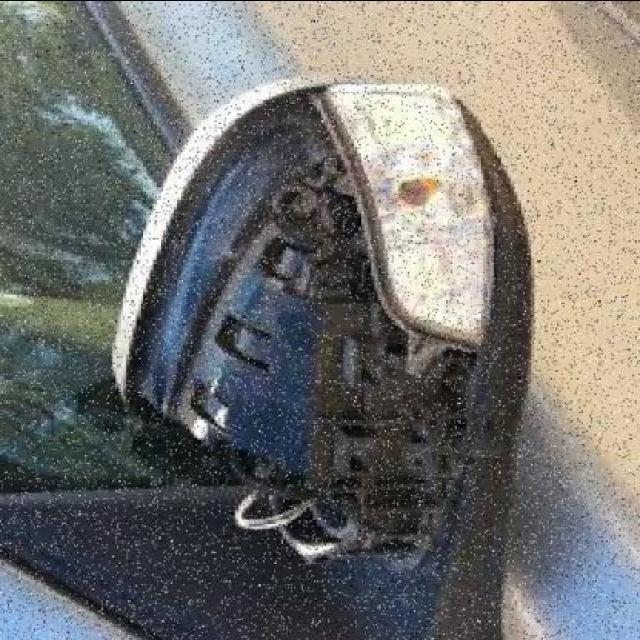Sidemirror-Damage: (96, 55, 576, 571)
